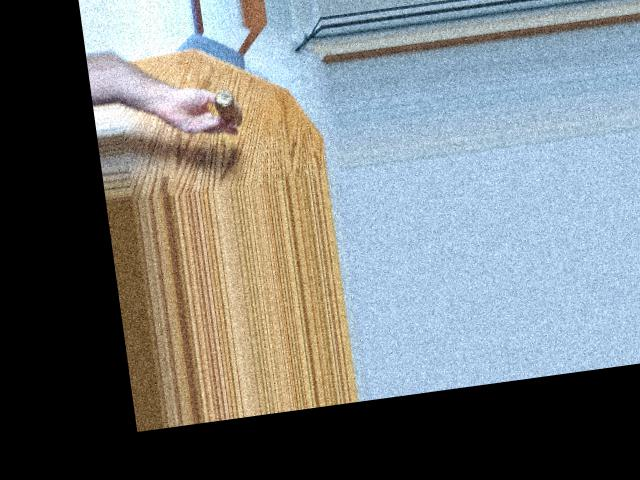sweet_potato: (205, 82, 244, 131)
